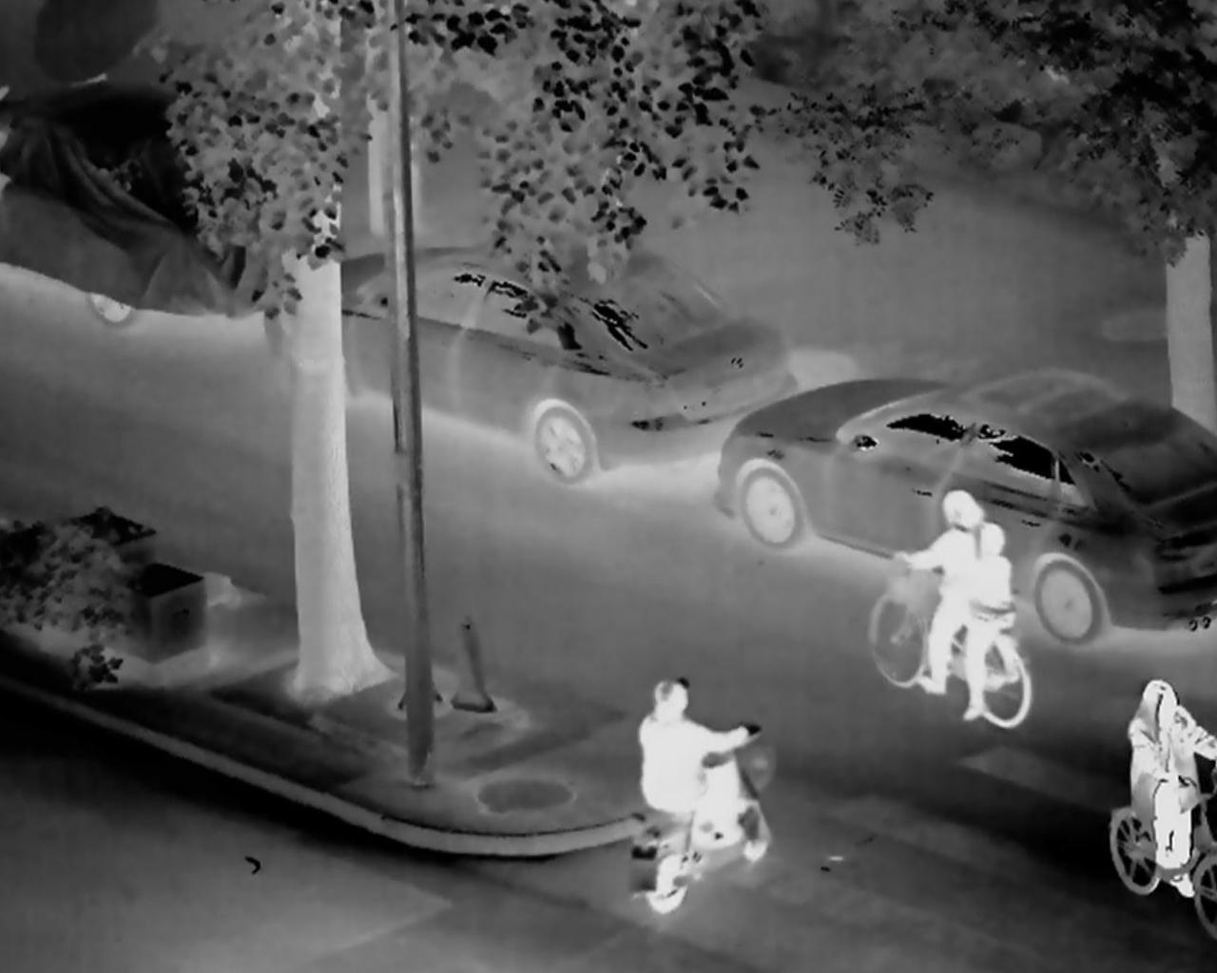person: (892, 486, 1010, 754), (1088, 660, 1217, 897), (639, 682, 772, 887)
